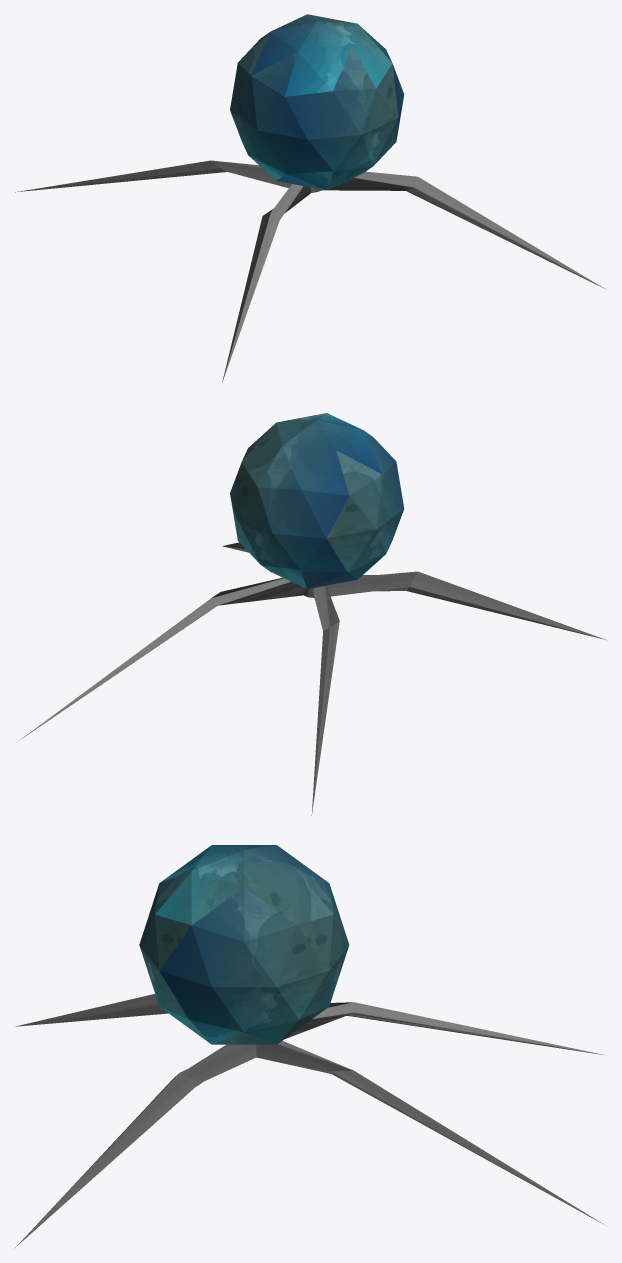
Rendered from Enemy1.obj.
3 views of the same model, one above another, from view 1: azimuth 30°, elevation 25°; view 2: azimuth 150°, elevation 25°; view 3: azimuth 270°, elevation 25° (orthographic). The views are drawn at different scales.
Visible parts, largest first — view 1: Icosphere, Cube; view 2: Icosphere, Cube; view 3: Icosphere, Cube.
Boxes of the visible parts, <box> form: Icosphere: <box>230,14,404,190</box>; Cube: <box>15,160,606,382</box>; Icosphere: <box>230,413,404,588</box>; Cube: <box>18,542,605,815</box>; Icosphere: <box>139,845,349,1044</box>; Cube: <box>14,994,605,1248</box>.
Size of the model in its own units: 5 by 3.06 by 5.65.
Materials: 2 (2 with a texture image).
